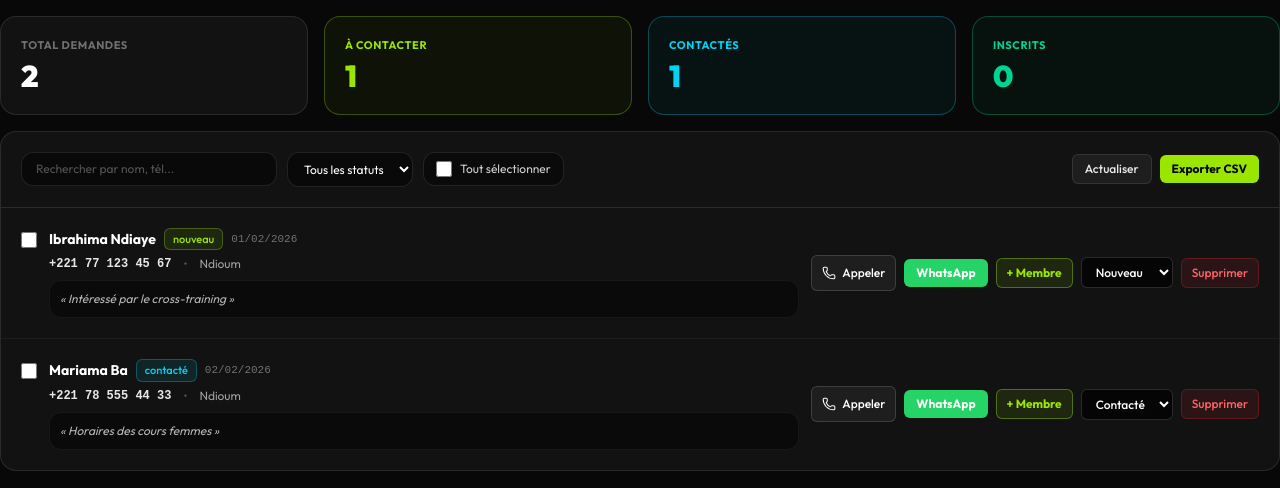
LeadsTab › filtre les prospects par recherche textuelle
In the field with placeholder "Rechercher par nom, tél...": [149, 169] box [21, 152, 277, 186], type "Mariama"
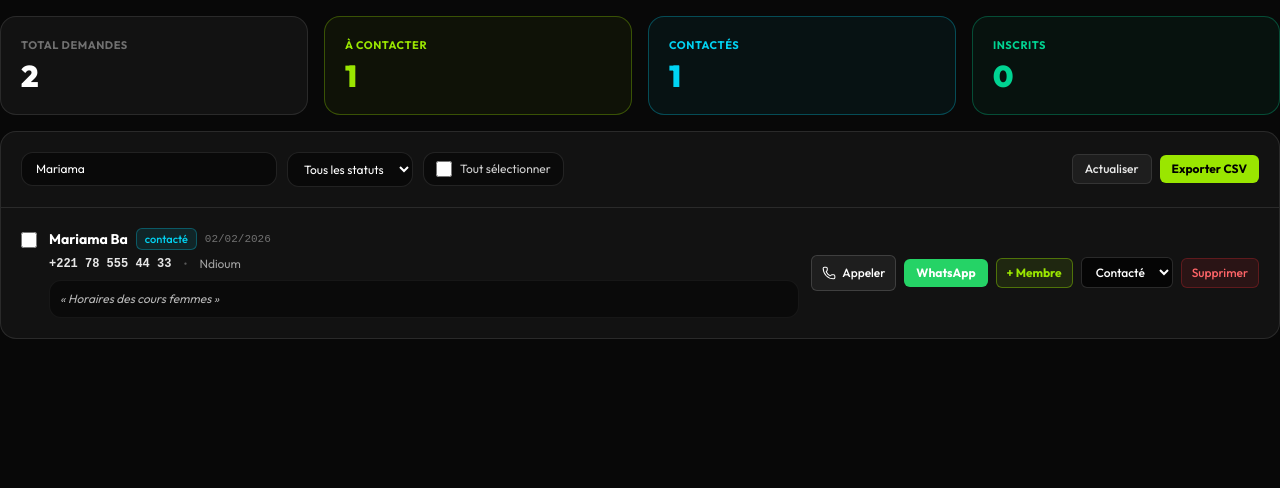
Check: the heading "Mariama Ba" is shown, box [49, 229, 128, 249]
Check: the heading "Ibrahima Ndiaye" is gone
